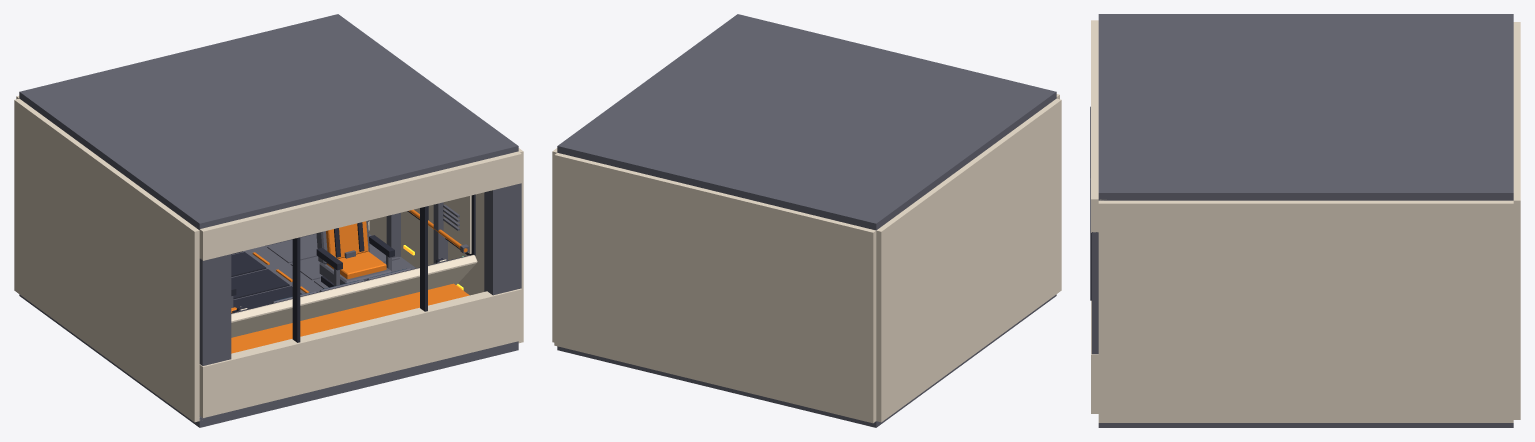
The model's file is asset.glb.
3 renders of one model, left to right at view 1: azimuth 30°, elevation 25°; view 2: azimuth 150°, elevation 25°; view 3: azimuth 270°, elevation 25°, orthographic. The views are drawn at different scales.
Parts seen in each view (by area): view 1: Mesh_Ceiling, Mesh_PortBulkhead, Mesh_WindowSill, Mesh_WindowHeader, Mesh_ConsoleFace, Mesh_CabinFloor, Mesh_ViewportPillar_2.23, Mesh_StarboardBulkhead, Mesh_ConsolePlinth, Mesh_ViewportPillar_-2.23, Mesh_DeckPlate_2, Mesh_ServiceCover_2.34_2 (+10 smaller); view 2: Mesh_AftBulkhead, Mesh_Ceiling, Mesh_PortBulkhead, Mesh_CabinFloor, Mesh_StarboardBulkhead; view 3: Mesh_StarboardBulkhead, Mesh_Ceiling, Mesh_AftBulkhead, Mesh_CabinFloor, Mesh_WindowHeader, Mesh_ViewportPillar_2.23, Mesh_WindowSill.
Part boxes in pixels (box(x1,y1,x2,y2)): Mesh_Ceiling: box(19, 14, 518, 229); Mesh_PortBulkhead: box(14, 98, 199, 422); Mesh_WindowSill: box(199, 288, 521, 417); Mesh_WindowHeader: box(196, 151, 521, 260); Mesh_ConsoleFace: box(231, 255, 477, 337); Mesh_CabinFloor: box(19, 233, 518, 427); Mesh_ViewportPillar_2.23: box(484, 183, 521, 295); Mesh_StarboardBulkhead: box(368, 148, 523, 343); Mesh_ConsolePlinth: box(231, 283, 469, 353); Mesh_ViewportPillar_-2.23: box(199, 254, 231, 365); Mesh_DeckPlate_2: box(231, 269, 289, 299); Mesh_ServiceCover_2.34_2: box(443, 195, 471, 253); Mesh_AftBulkhead: box(554, 153, 876, 423); Mesh_Ceiling: box(557, 14, 1056, 230); Mesh_PortBulkhead: box(876, 98, 1061, 422); Mesh_CabinFloor: box(557, 294, 1056, 427); Mesh_StarboardBulkhead: box(552, 148, 557, 342); Mesh_StarboardBulkhead: box(1098, 200, 1513, 422); Mesh_Ceiling: box(1098, 14, 1513, 200); Mesh_AftBulkhead: box(1513, 22, 1520, 419); Mesh_CabinFloor: box(1098, 423, 1513, 427); Mesh_WindowHeader: box(1091, 20, 1101, 232); Mesh_ViewportPillar_2.23: box(1091, 232, 1098, 354); Mesh_WindowSill: box(1091, 300, 1098, 413).
Size of the model in its own units: 5.06 by 3 by 4.97.
